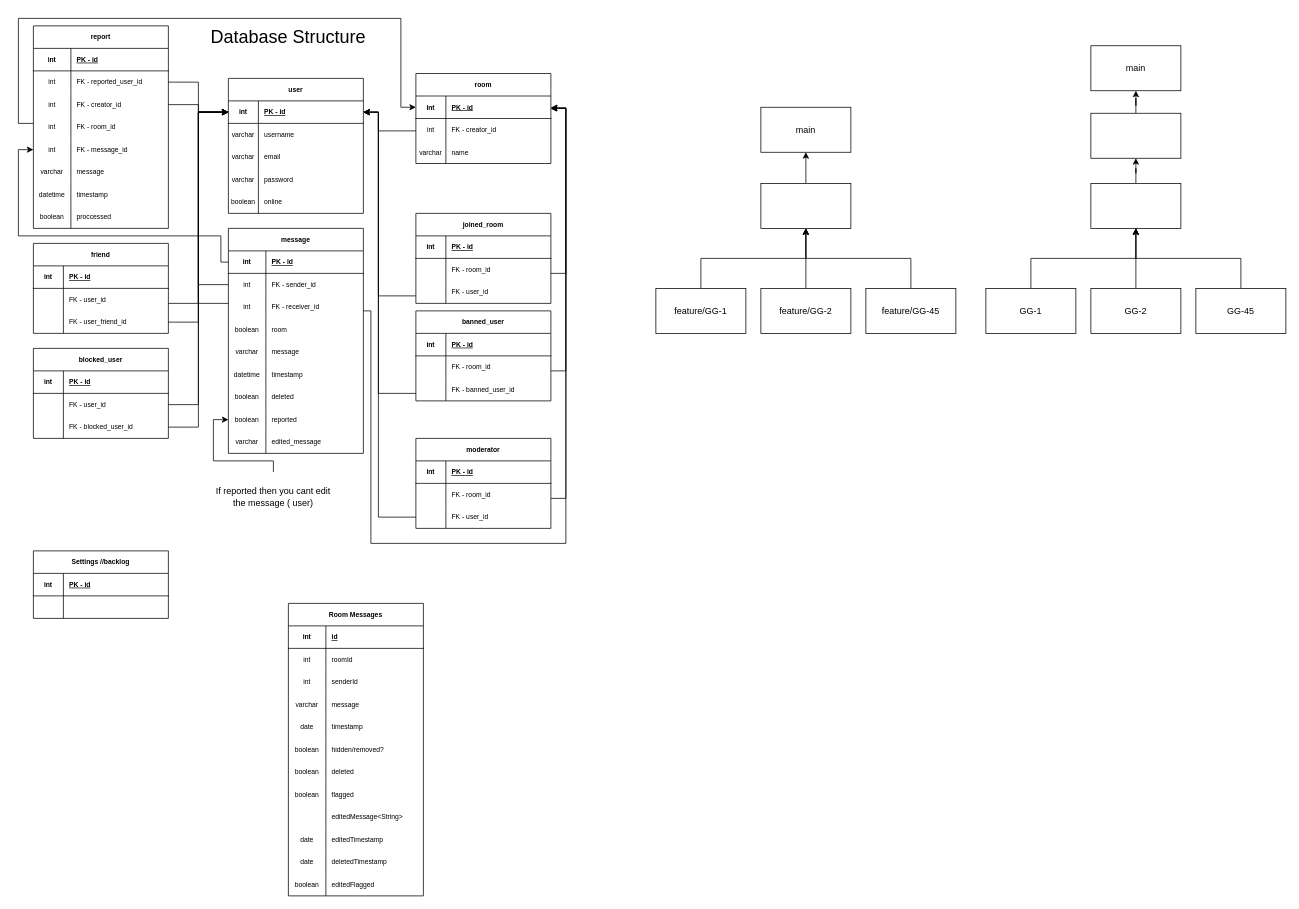
Image size: 1299x909. Some labels were removed from this diagram. The shapes that lost their labels are listed below. From the top down, each one's centre as x and y in pixels, then its label:
point 1135,135: dev/
point 805,205: dev
point 1135,205: feature/
